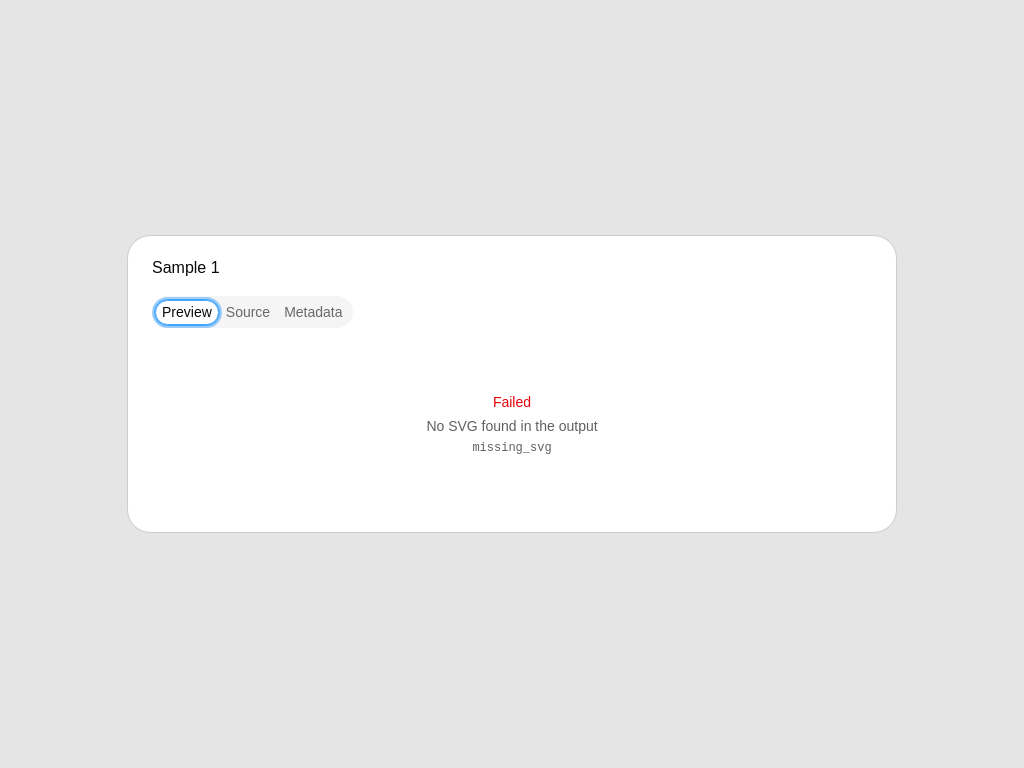
Test case: SampleDetailDialog › a failed sample fetches its artifact and the source tab shows raw text
Click the tab "Source". click: (248, 312)
box: [219,300,277,324]
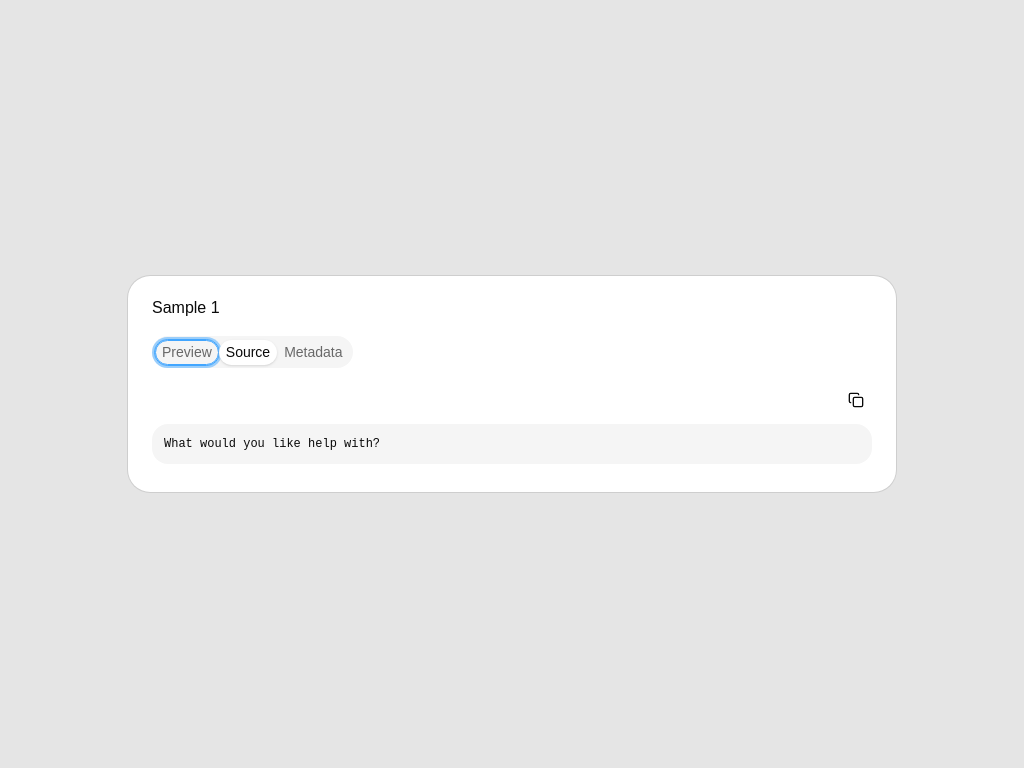
Now the text "What would you like help with?" is shown, box [152,424,872,464]
